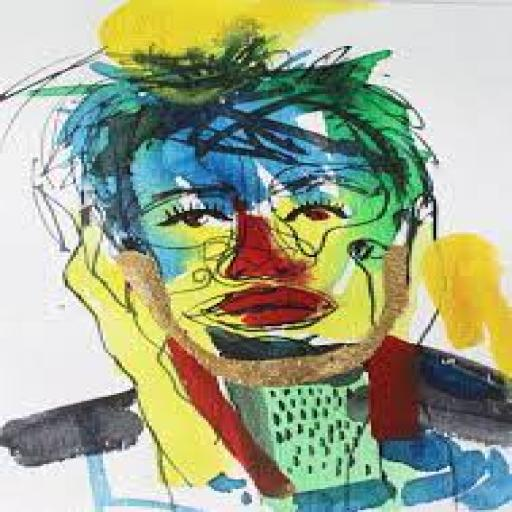person: (2, 17, 506, 512)
